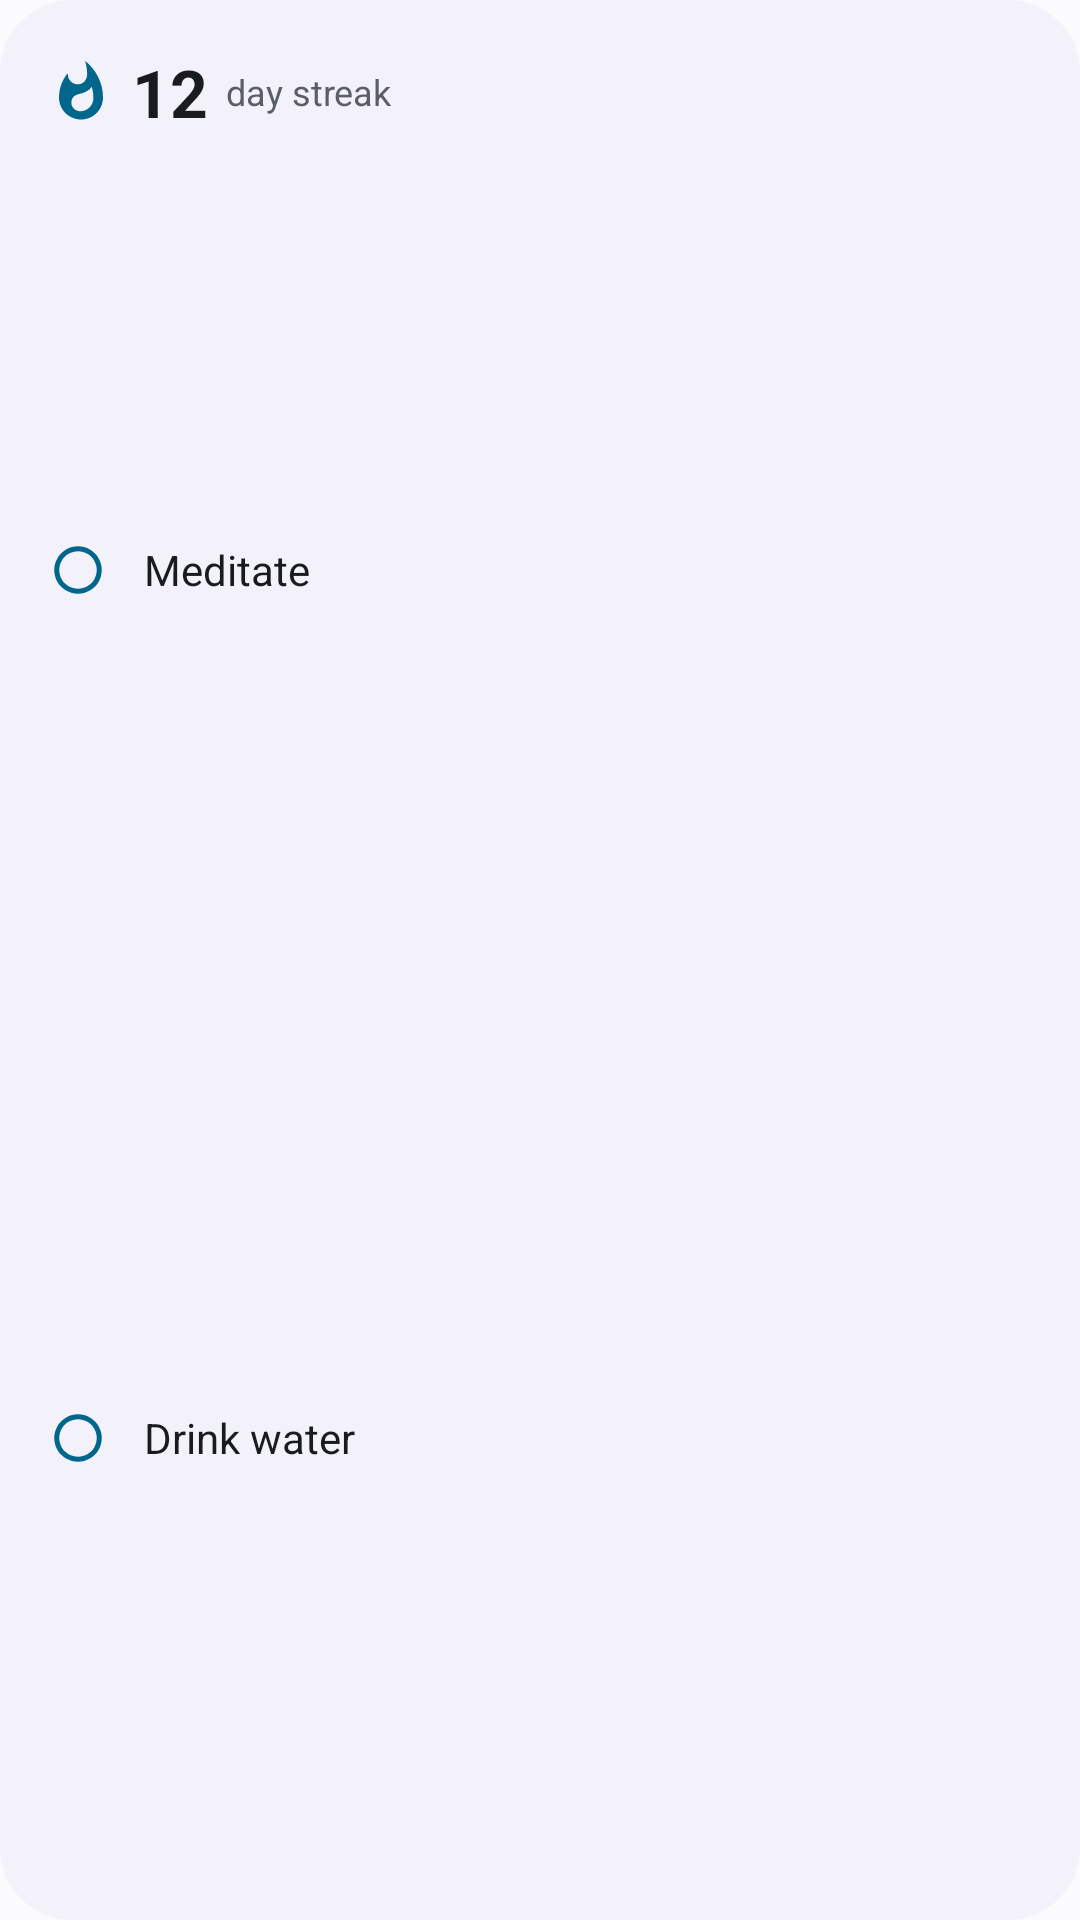

Screen size 1080 x 1920. Icon name, then its box in pixels as (x1, y1, x2, y2):
circle: (54, 546, 102, 594), (54, 1414, 102, 1462)
flame: (59, 61, 103, 120)
